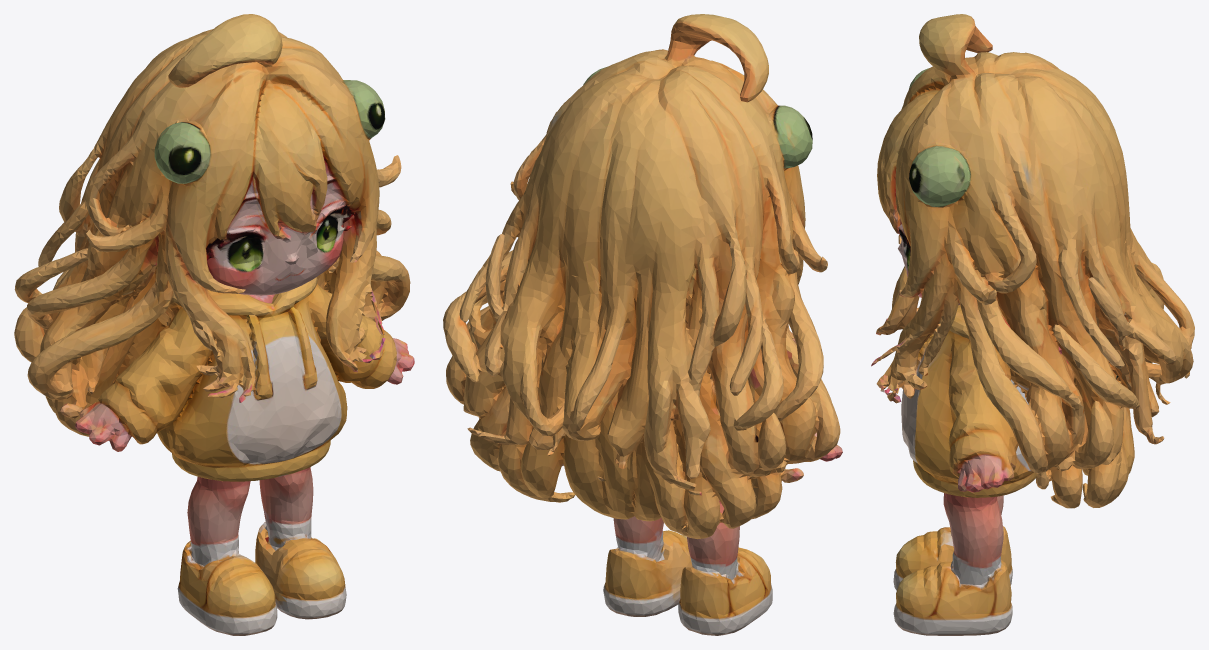
Rendered from nailong-textured.glb.
3 renders of one model, left to right at view 1: azimuth 30°, elevation 25°; view 2: azimuth 150°, elevation 25°; view 3: azimuth 270°, elevation 25°, orthographic. The views are drawn at different scales.
Visible parts, largest first — view 1: textured_mesh.obj; view 2: textured_mesh.obj; view 3: textured_mesh.obj.
Boxes of the visible parts, box(x1,y1,x2,y2) form: textured_mesh.obj: box(14, 14, 414, 635); textured_mesh.obj: box(443, 14, 842, 635); textured_mesh.obj: box(871, 14, 1194, 635).
Bounding box in the file's own units: 1.33 × 1.99 × 1.01.
Materials: 1 (1 with a texture image).
